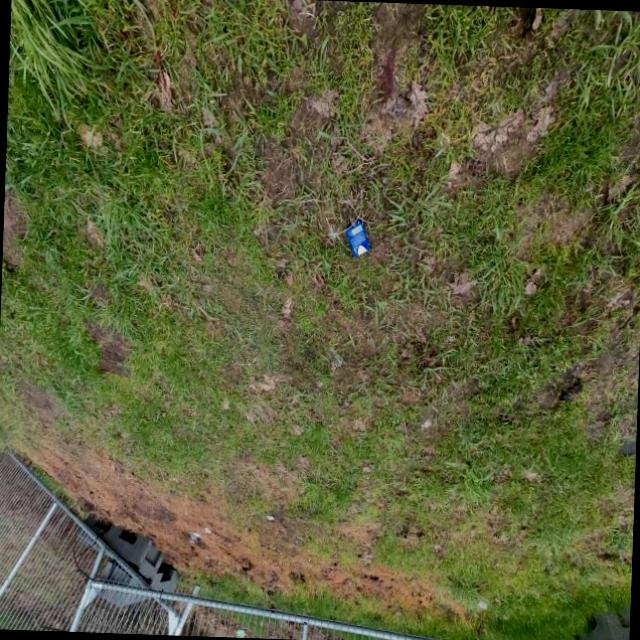Plastic: (344, 216, 372, 259)
